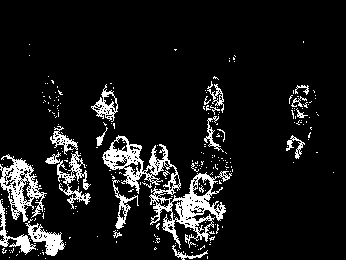person: (1, 154, 65, 257), (168, 170, 230, 260), (101, 135, 146, 241), (144, 142, 183, 251), (48, 132, 92, 216), (288, 84, 318, 160), (91, 82, 118, 147), (203, 77, 226, 152)
